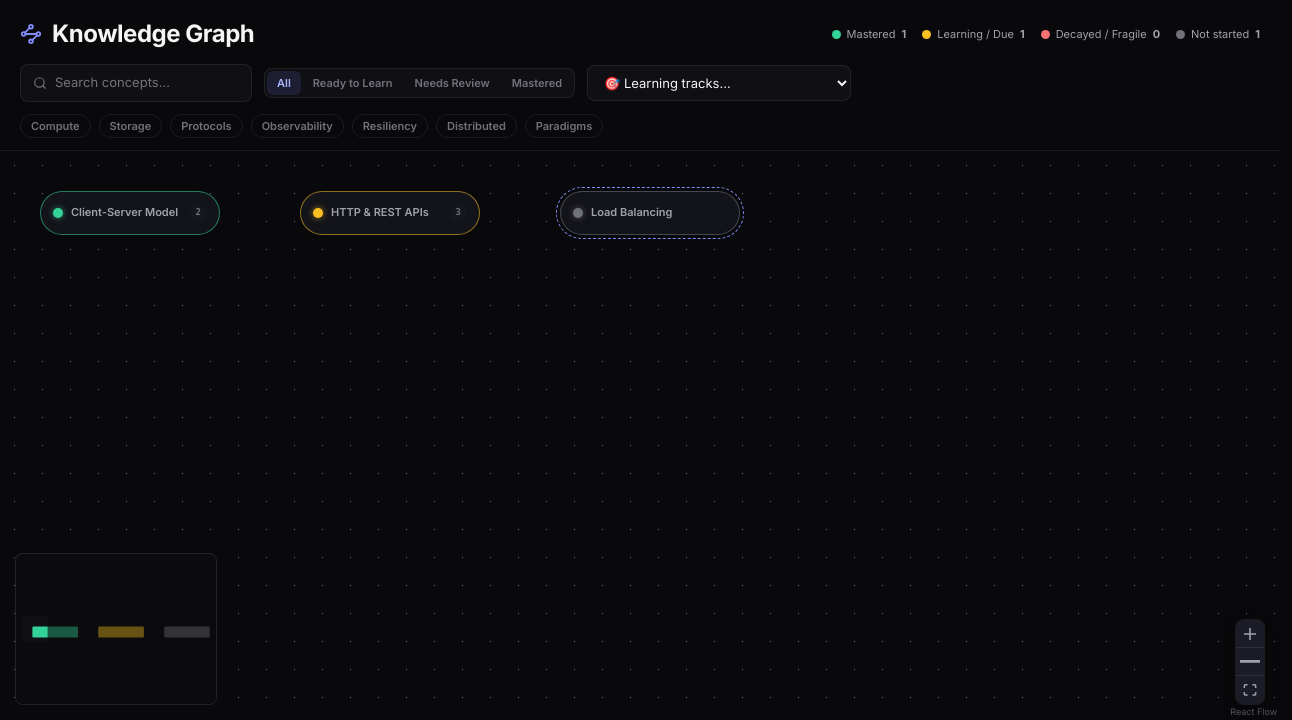
Scenario: GraphPage › opens the slide-over panel with deep links on node click
Click the element with id "graph-node-http-rest" at (390, 213), box top-left (300, 191), bottom-right (480, 235)
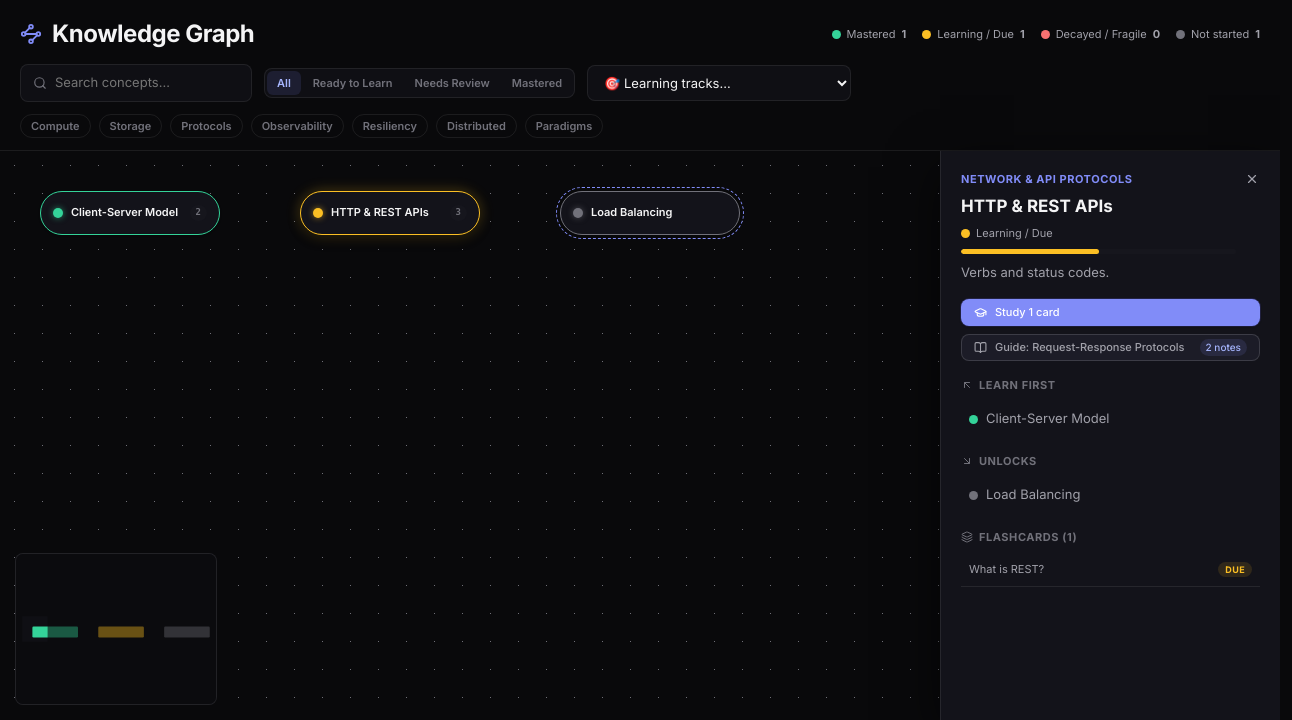
Expected: the element with id "graph-node-panel" is shown, top-left (940, 151), bottom-right (1280, 719)
Expected: the link "Guide: Request-Response Protocols 2 notes" is shown, top-left (961, 334), bottom-right (1260, 361)
Expected: the text "Learn first" is shown, top-left (961, 378), bottom-right (1056, 392)
